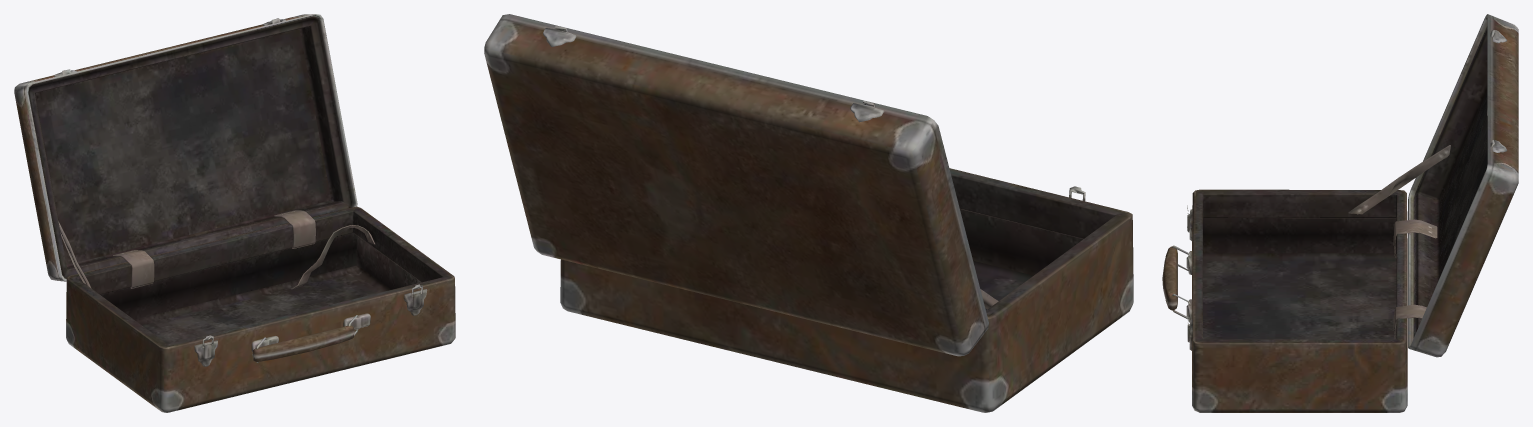
The model's file is suitcase_c.glb.
3 views of the same model, side by side, from view 1: azimuth 30°, elevation 25°; view 2: azimuth 150°, elevation 25°; view 3: azimuth 270°, elevation 25° (orthographic). The views are drawn at different scales.
Visible parts, largest first — view 1: Suitcase_c; view 2: Suitcase_c; view 3: Suitcase_c.
Part boxes in pixels (<box>): Suitcase_c: <box>14,14,455,412</box>; Suitcase_c: <box>484,14,1133,412</box>; Suitcase_c: <box>1162,14,1518,412</box>.
Size of the model in its own units: 0.6663 by 0.5026 by 0.6428.
Materials: 1 (1 with a texture image).
